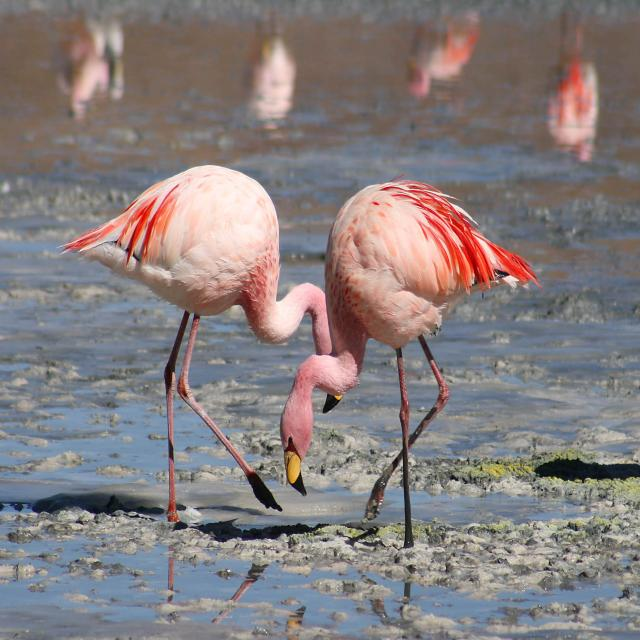Flamingo: (61, 156, 332, 518), (282, 171, 522, 535)
